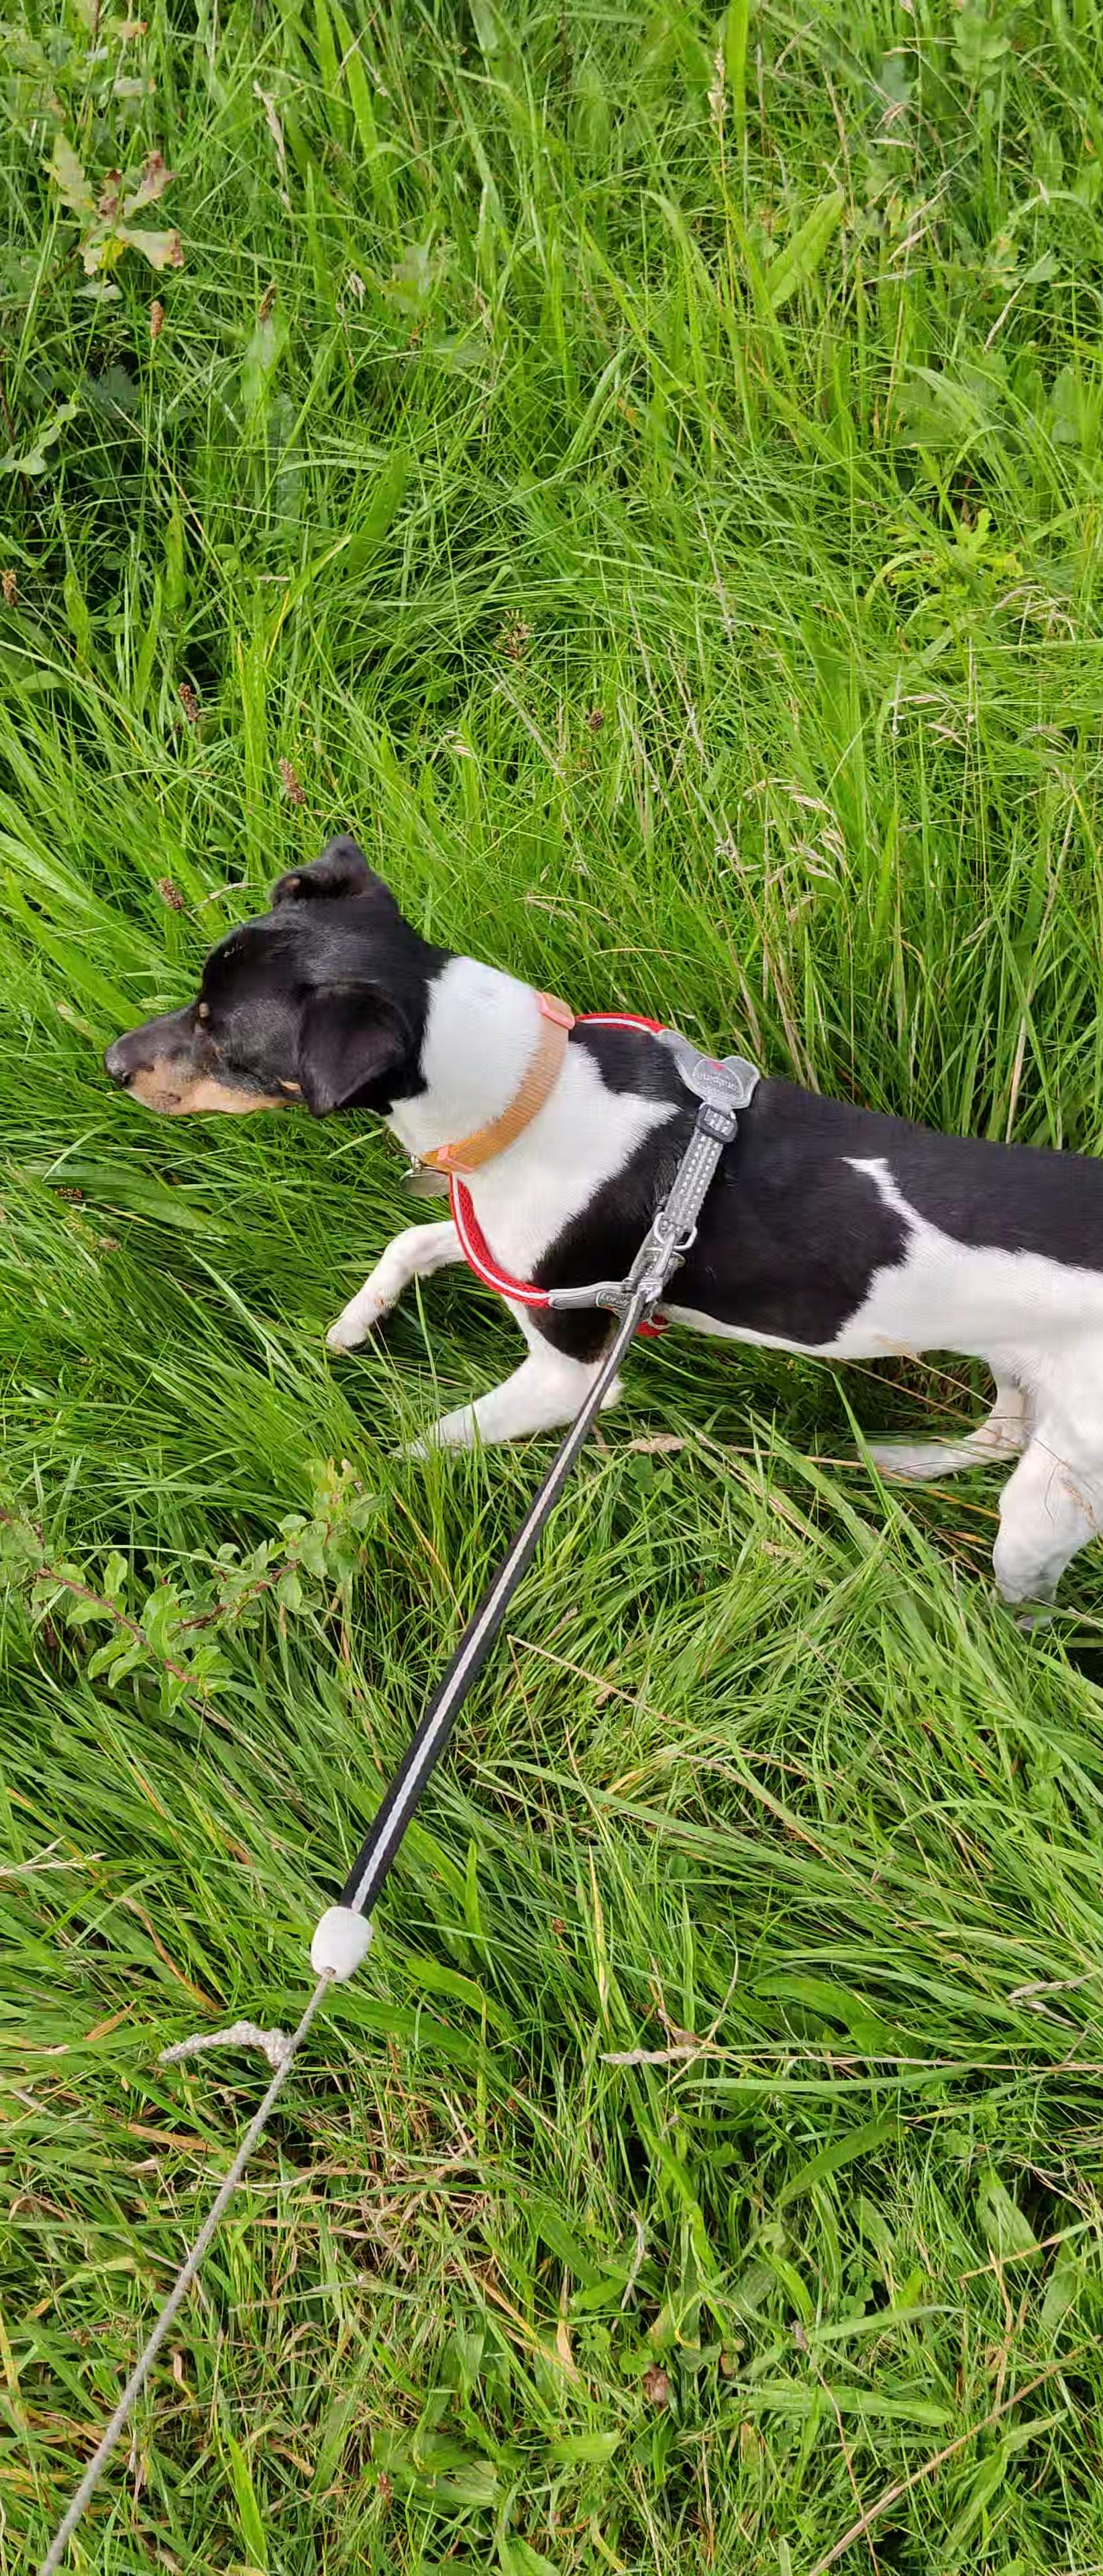Dog: (62, 808, 1103, 1621)
